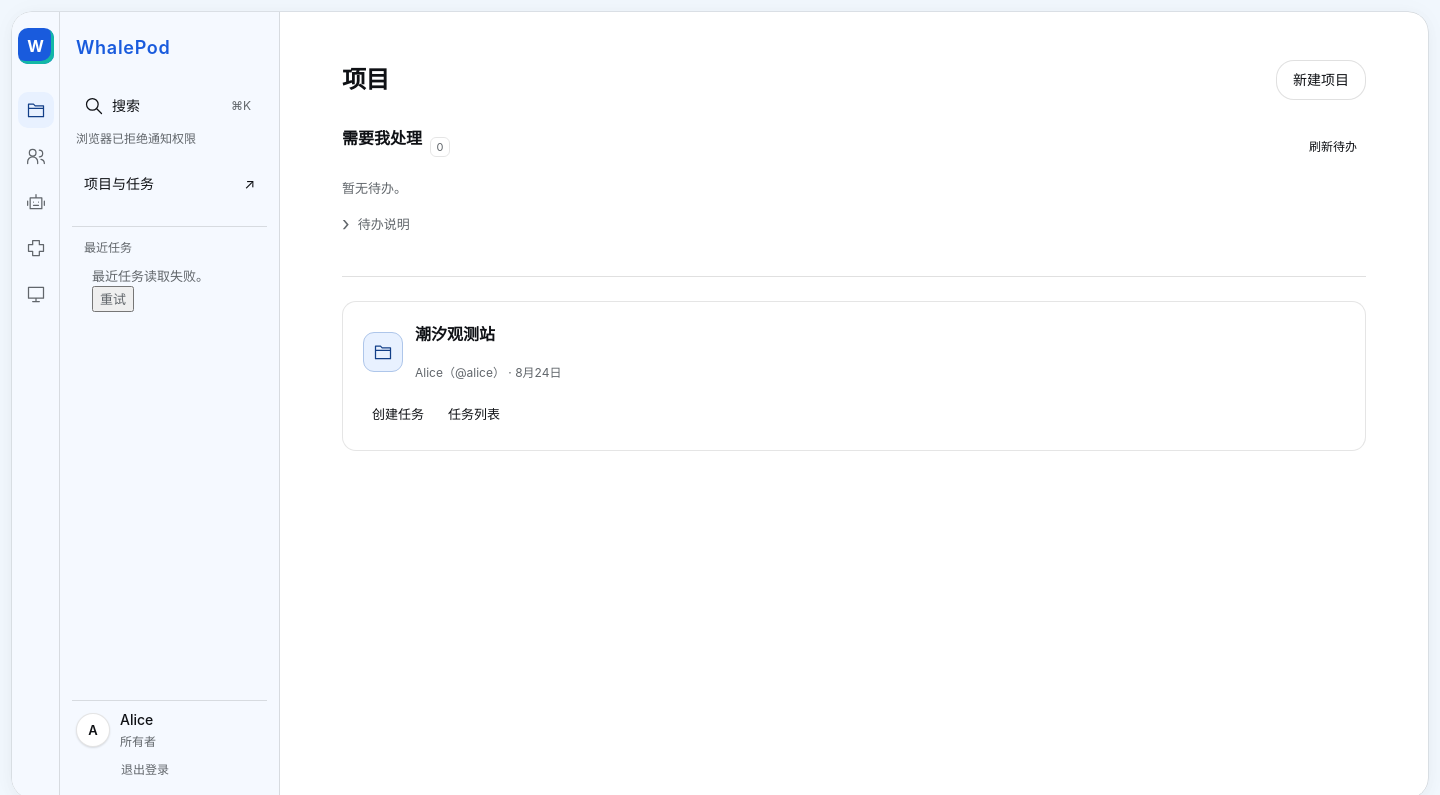
#158 反面钉：全树不许有原生 <select>（逐落页点） › 落页点 #task-assignee-<projectId>：是按钮，且每个项目一个（不再按前缀命中原生 select）
Click the button "创建任务".
click(398, 414)  # box [363,398,433,430]
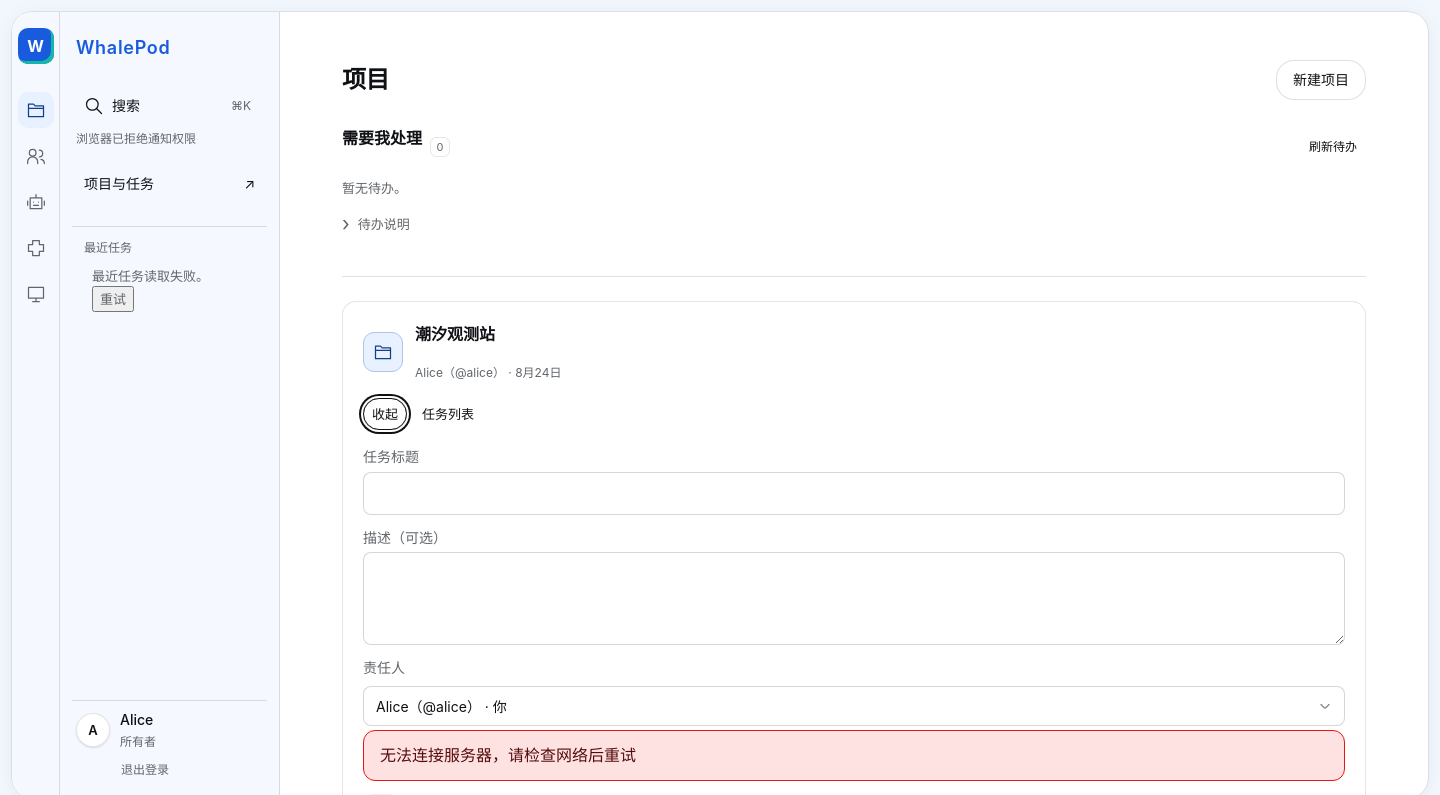
Check: the text "Alice（@alice） · 你" is shown, box [376,698,507,714]
